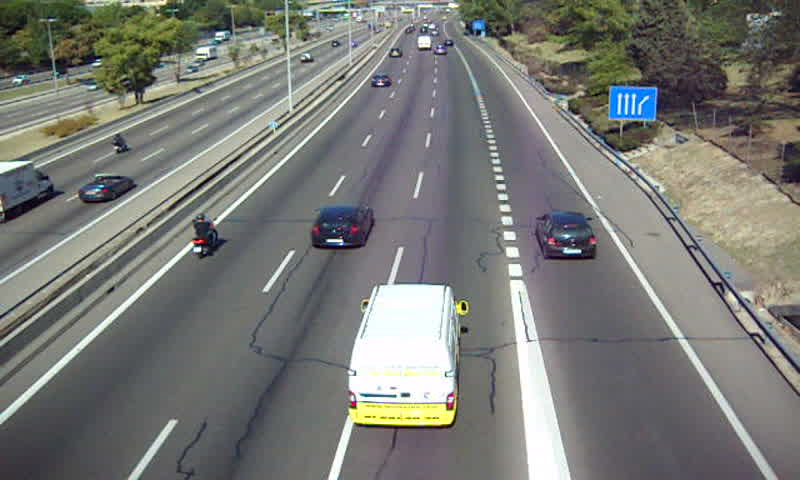car: (534, 213, 598, 262), (309, 203, 374, 248), (370, 73, 392, 90)
motorcycle: (188, 212, 219, 261)
van: (348, 284, 461, 426)
